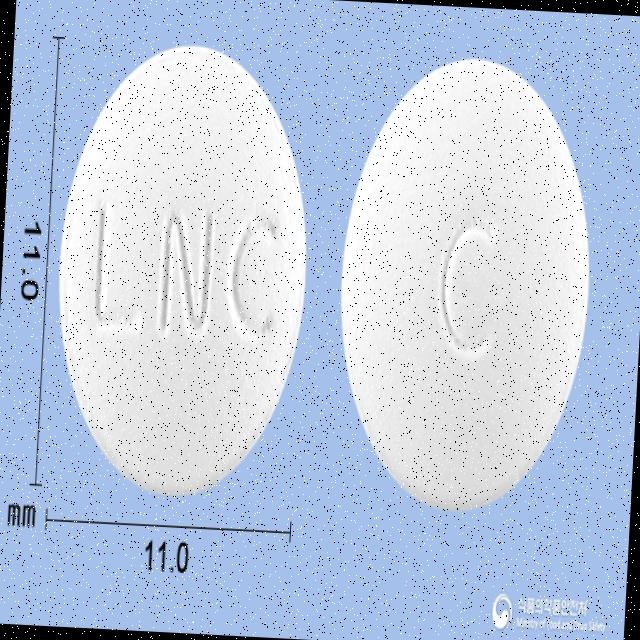Mega Ciflox: (330, 51, 604, 518), (48, 39, 320, 500)
